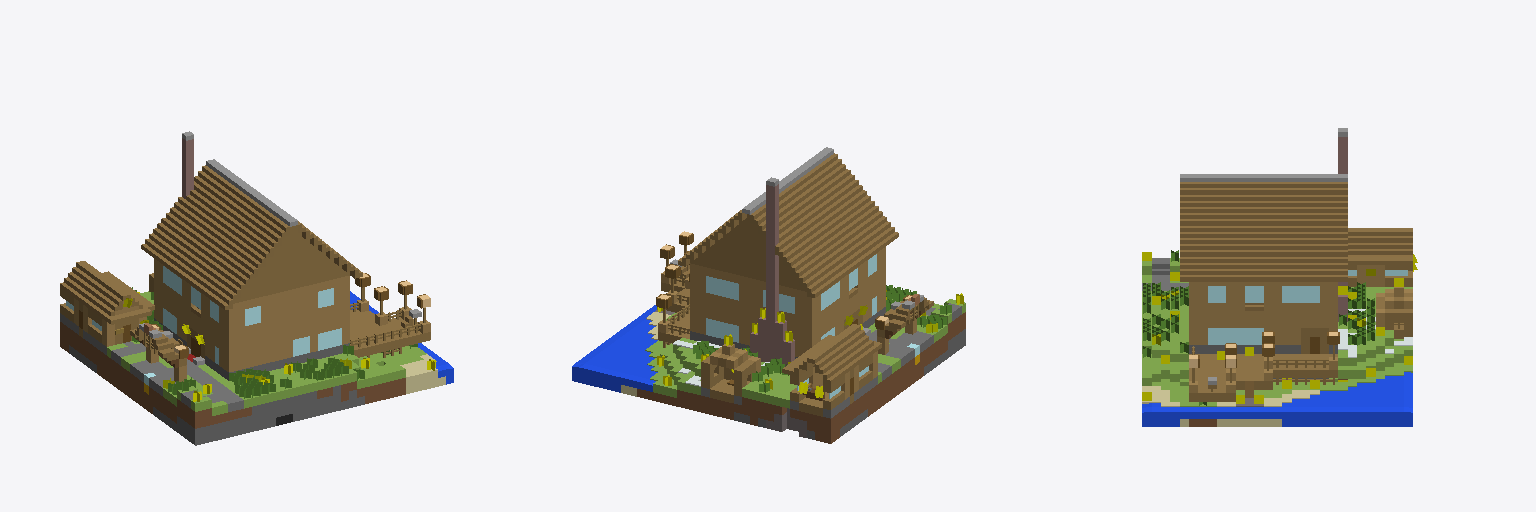
The picture shows the model from 3 angles: view 1: azimuth 30°, elevation 25°; view 2: azimuth 150°, elevation 25°; view 3: azimuth 270°, elevation 25°; orthographic projection.
Parts seen in each view (by area): view 1: laplace__171_61_269_to_202_86_297; view 2: laplace__171_61_269_to_202_86_297; view 3: laplace__171_61_269_to_202_86_297.
Part boxes in pixels (x1,y1,x2,y2): laplace__171_61_269_to_202_86_297: (60, 131, 453, 445); laplace__171_61_269_to_202_86_297: (572, 147, 965, 443); laplace__171_61_269_to_202_86_297: (1142, 128, 1417, 426).
Bounding box in the file's own units: 3.2 × 2.55 × 2.95.